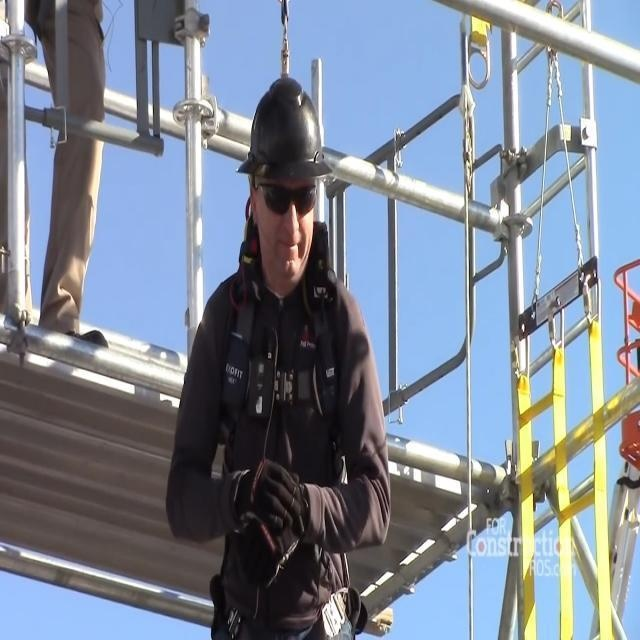Arnes_seguridad: (208, 154, 368, 639)
